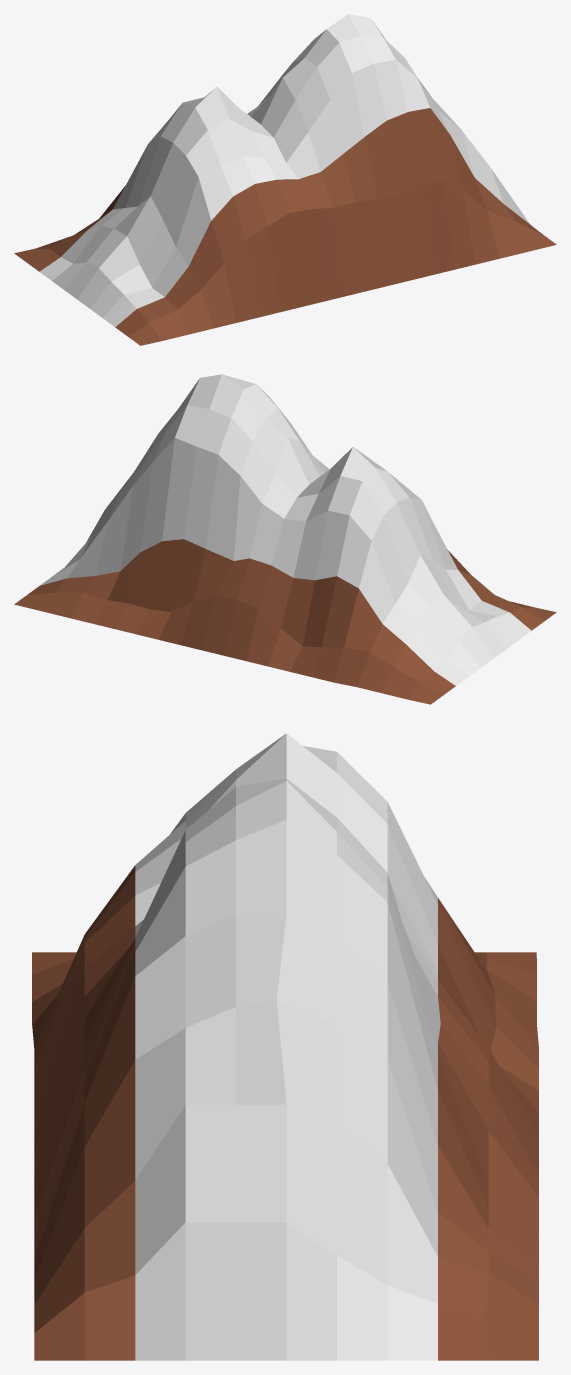
Rendered from mountainTop02.fbx.
The picture shows the model from 3 angles, top to bottom: view 1: azimuth 30°, elevation 25°; view 2: azimuth 150°, elevation 25°; view 3: azimuth 270°, elevation 25°; orthographic projection. The views are drawn at different scales.
Parts seen in each view (by area): view 1: Grid; view 2: Grid; view 3: Grid.
Boxes of the visible parts, x1,y1,x2,y2 form: Grid: (14, 14, 556, 345); Grid: (14, 374, 556, 704); Grid: (32, 733, 538, 1360).
Bounding box in the file's own units: 381 × 192 × 201.
